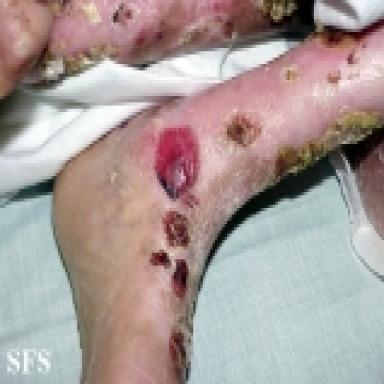Epidermolysis-Bullosa-Pruriginosa: (275, 110, 384, 179), (155, 126, 199, 207), (169, 325, 192, 382), (227, 114, 261, 146), (163, 211, 189, 246), (172, 259, 188, 298), (150, 250, 171, 267), (283, 65, 298, 82), (328, 70, 341, 83), (347, 52, 359, 65)
